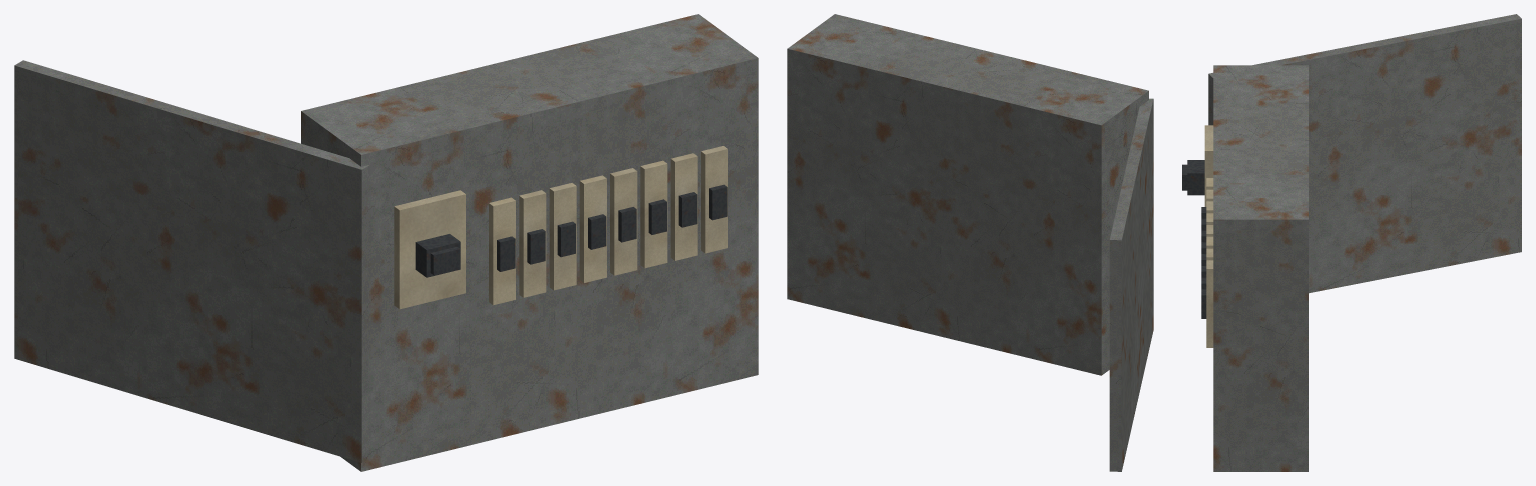
Rendered from breaker_box.glb.
3 views of the same model, side by side, from view 1: azimuth 30°, elevation 25°; view 2: azimuth 150°, elevation 25°; view 3: azimuth 270°, elevation 25° (orthographic). The views are drawn at different scales.
Visible parts, largest first — view 1: breaker_box, Lever; view 2: breaker_box; view 3: breaker_box, Lever.
Part boxes in pixels (bbox=[...]): breaker_box: bbox=[14, 14, 758, 471]; Lever: bbox=[415, 234, 460, 277]; breaker_box: bbox=[787, 14, 1153, 471]; breaker_box: bbox=[1201, 14, 1521, 471]; Lever: bbox=[1182, 160, 1204, 195].
Bounding box in the file's own units: 0.585 × 0.32 × 0.3906.
3 materials, 3 textured.
